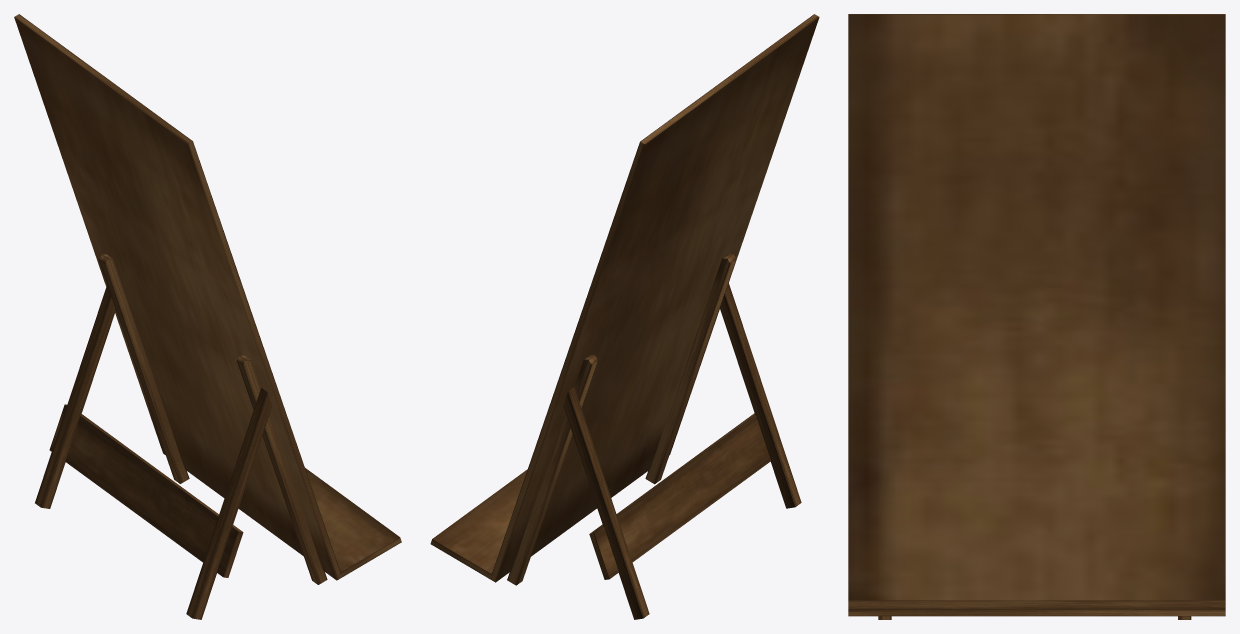
The model's file is shop_weapons_rack_floor.fbx.
The picture shows the model from 3 angles, left to right: view 1: azimuth 30°, elevation 25°; view 2: azimuth 150°, elevation 25°; view 3: azimuth 270°, elevation 25°; orthographic projection. The views are drawn at different scales.
Parts seen in each view (by area): view 1: pCube4, pCube4.001, pCube1.001, pCube2.001, pCube2, pCube1; view 2: pCube4, pCube4.001, pCube2.001, pCube1.001, pCube1, pCube2; view 3: pCube4.
Boxes of the visible parts, box(x1,y1,x2,y2) form: pCube4: box(14, 14, 401, 580); pCube4.001: box(49, 404, 243, 577); pCube1.001: box(186, 388, 272, 619); pCube2.001: box(35, 285, 115, 508); pCube2: box(99, 254, 189, 483); pCube1: box(237, 355, 327, 584); pCube4: box(430, 14, 819, 582); pCube4.001: box(589, 413, 770, 579); pCube2.001: box(563, 387, 649, 619); pCube1.001: box(720, 283, 801, 508); pCube1: box(645, 253, 736, 484); pCube2: box(507, 355, 597, 585); pCube4: box(848, 14, 1225, 616).
Size of the model in its own units: 220 by 479 by 309.
Materials: 1 (1 with a texture image).
